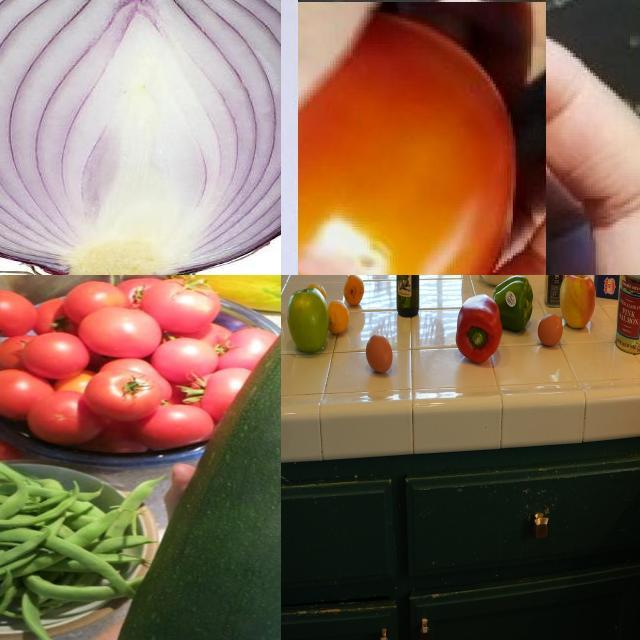bell_pepper: (454, 293, 500, 363), (492, 278, 536, 336), (545, 276, 569, 307)
egg: (366, 333, 396, 383), (538, 317, 567, 349)
onion: (1, 1, 282, 276), (475, 276, 520, 287)
tomato: (299, 3, 546, 276), (22, 375, 103, 444), (87, 359, 170, 425), (80, 302, 169, 363), (140, 276, 226, 336), (148, 330, 215, 390), (1, 362, 57, 415), (70, 276, 133, 323), (1, 282, 42, 336)
zucchini: (202, 276, 282, 640), (158, 276, 282, 313)
